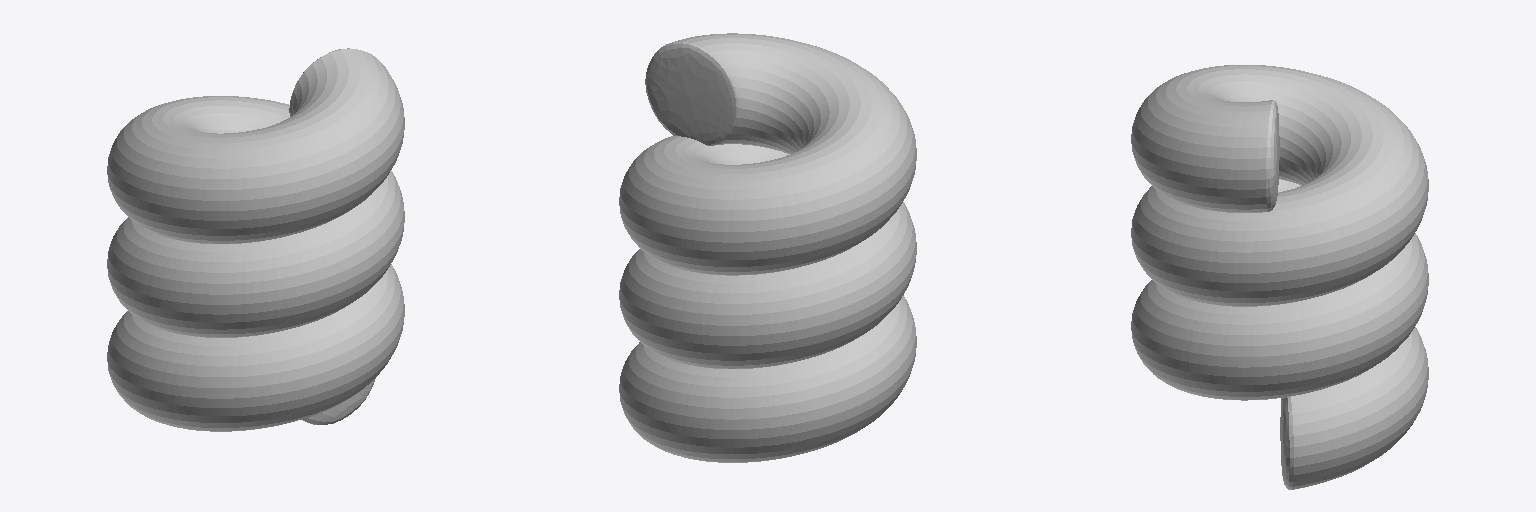
File: helix_15.0.obj
3 renders of one model, left to right at view 1: azimuth 30°, elevation 25°; view 2: azimuth 150°, elevation 25°; view 3: azimuth 270°, elevation 25°, orthographic.
Visible parts, largest first — view 1: helix:pHelix1; view 2: helix:pHelix1; view 3: helix:pHelix1.
Boxes of the visible parts, x1=… form: helix:pHelix1: x1=107, y1=48, x2=404, y2=431; helix:pHelix1: x1=619, y1=33, x2=916, y2=462; helix:pHelix1: x1=1131, y1=65, x2=1428, y2=489.
Bounding box in the file's own units: 1.92 × 2.71 × 1.92.